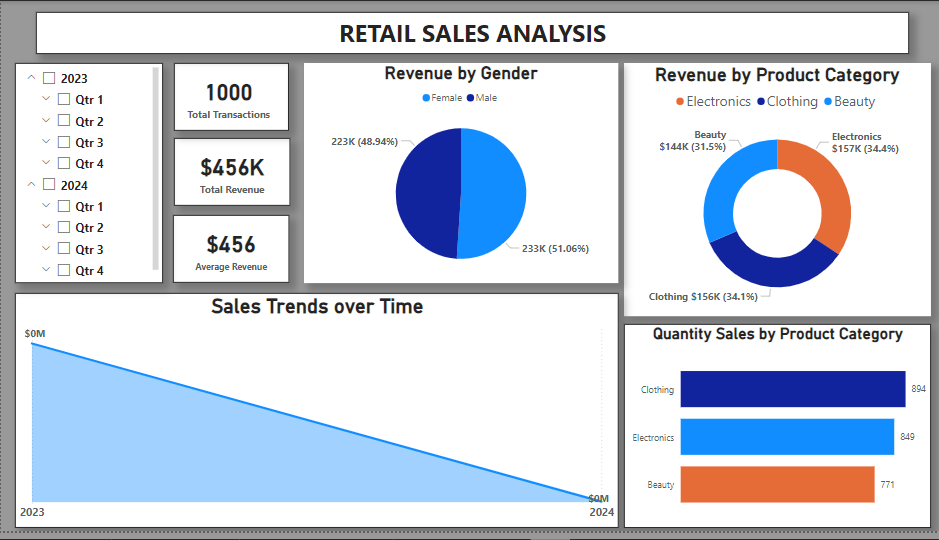

This screenshot's page, from the dashboard's own definition file:
{"tool":"powerbi","page":{"name":"Sales Overview","canvas":[1280,720],"ordinal":0},"visuals":[{"type":"card","fields":{"Values":["Sum(retail_sales_dataset.Total Amount)"]},"box":[235.2,186.5,157.9,92.4],"z":0},{"type":"card","fields":{"Values":["CountNonNull(retail_sales_dataset.Transaction ID)"]},"box":[235.2,84,156.2,92.4],"z":1000},{"type":"card","fields":{"Values":["Avg(retail_sales_dataset.Total Amount)"]},"box":[233.5,290.6,157.9,92.4],"z":2000},{"type":"textbox","box":[47,15.1,1185.9,57.1],"z":3000},{"type":"donutChart","title":"Revenue by Product Category","fields":{"Category":["retail_sales_dataset.Product Category"],"Y":["Sum(retail_sales_dataset.Total Amount)"]},"box":[846.6,84,416.6,344.4],"z":4000},{"type":"areaChart","title":"Sales Trends over Time","fields":{"Category":["retail_sales_dataset.Date.Variation.Date Hierarchy.Year","retail_sales_dataset.Date.Variation.Date Hierarchy.Quarter","retail_sales_dataset.Date.Variation.Date Hierarchy.Month","retail_sales_dataset.Date.Variation.Date Hierarchy.Day"],"Y":["Sum(retail_sales_dataset.Total Amount)"]},"box":[18.5,396.4,819.7,319.2],"z":5000},{"type":"clusteredBarChart","title":"Quantity Sales by Product Category","fields":{"Y":["Sum(retail_sales_dataset.Quantity)"],"Category":["retail_sales_dataset.Product Category"]},"box":[846.6,438.4,416.6,277.2],"z":6000},{"type":"pieChart","title":"Revenue by Gender","fields":{"Category":["retail_sales_dataset.Gender"],"Y":["Sum(retail_sales_dataset.Total Amount)"]},"box":[411.5,84,426.7,299],"z":7000},{"type":"slicer","fields":{"Values":["retail_sales_dataset.Date.Variation.Date Hierarchy.Year","retail_sales_dataset.Date.Variation.Date Hierarchy.Quarter","retail_sales_dataset.Date.Variation.Date Hierarchy.Month","retail_sales_dataset.Date.Variation.Date Hierarchy.Day"]},"box":[19.3,84,200.9,298.7],"z":8000}]}

Visuals, with their boxes in screenshot pixels (x1, y1, x2, y2), scaled from the page's 1280x720 canvas onto the 939x540 screenshot:
card - Sum(retail_sales_dataset.Total Amount): pyautogui.locateOnScreen(173, 140, 288, 209)
card - CountNonNull(retail_sales_dataset.Transaction ID): pyautogui.locateOnScreen(173, 63, 287, 132)
card - Avg(retail_sales_dataset.Total Amount): pyautogui.locateOnScreen(171, 218, 287, 287)
textbox: pyautogui.locateOnScreen(34, 11, 904, 54)
"Revenue by Product Category" donutChart: pyautogui.locateOnScreen(621, 63, 927, 321)
"Sales Trends over Time" areaChart: pyautogui.locateOnScreen(14, 297, 615, 537)
"Quantity Sales by Product Category" clusteredBarChart: pyautogui.locateOnScreen(621, 329, 927, 537)
"Revenue by Gender" pieChart: pyautogui.locateOnScreen(302, 63, 615, 287)
slicer - retail_sales_dataset.Date.Variation.Date Hierarchy.Year x retail_sales_dataset.Date.Variation.Date Hierarchy.Quarter: pyautogui.locateOnScreen(14, 63, 162, 287)
